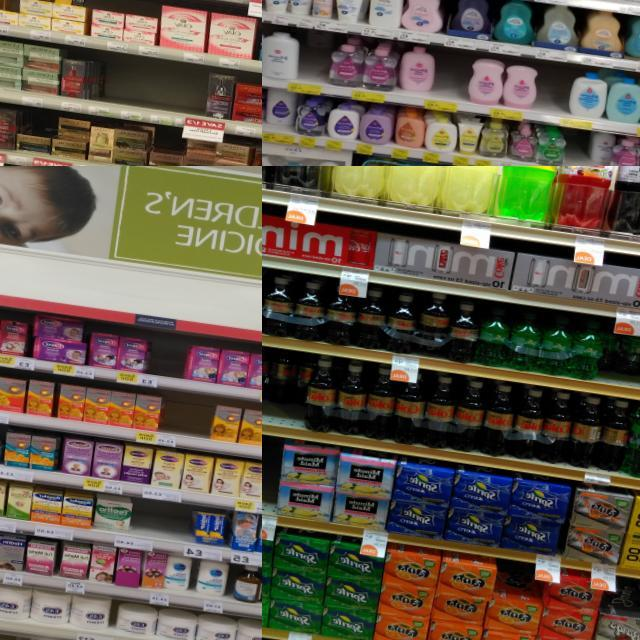void: (130, 500, 190, 556), (159, 394, 214, 450), (431, 49, 472, 113), (536, 61, 572, 128), (173, 65, 210, 130), (146, 60, 181, 126), (148, 332, 186, 388), (120, 58, 152, 122), (95, 53, 126, 119), (262, 436, 282, 525), (295, 44, 329, 94), (563, 132, 586, 166)
